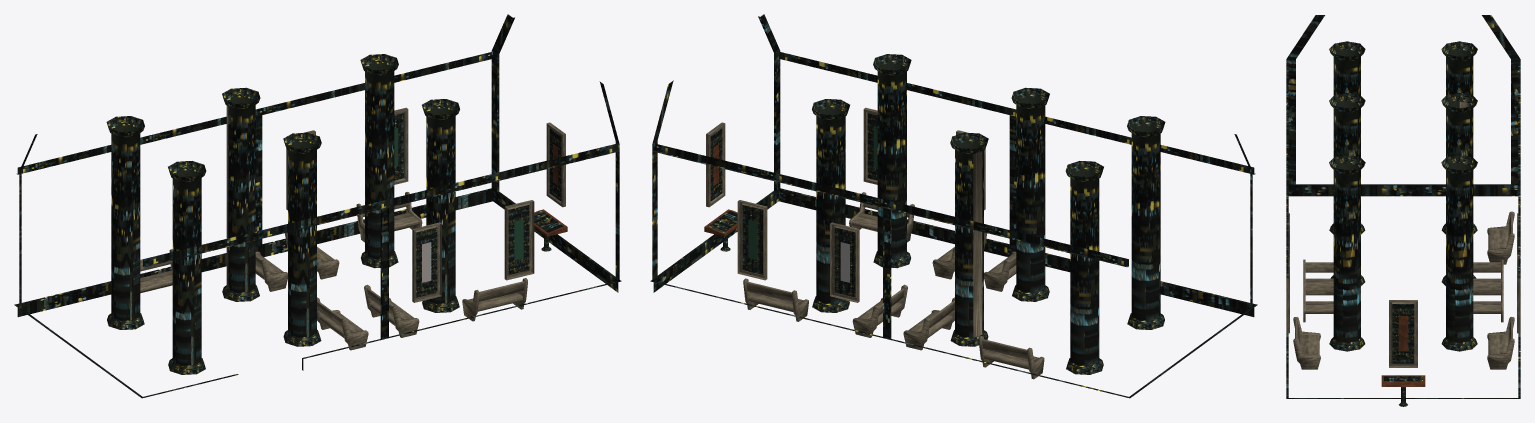
The model's file is LMX_chapel_props.dae.
3 views of the same model, side by side, from view 1: azimuth 30°, elevation 25°; view 2: azimuth 150°, elevation 25°; view 3: azimuth 270°, elevation 25° (orthographic). The views are drawn at different scales.
Parts seen in each view (by area): view 1: chapel_Module_Common_LMX_chapel_props; view 2: chapel_Module_Common_LMX_chapel_props; view 3: chapel_Module_Common_LMX_chapel_props.
Part boxes in pixels (left/top/right/bottom): chapel_Module_Common_LMX_chapel_props: left=14, top=14, right=621, bottom=398; chapel_Module_Common_LMX_chapel_props: left=650, top=14, right=1257, bottom=398; chapel_Module_Common_LMX_chapel_props: left=1286, top=15, right=1520, bottom=406.
Bounding box in the file's own units: 20.8 × 9.6 × 8.2.
